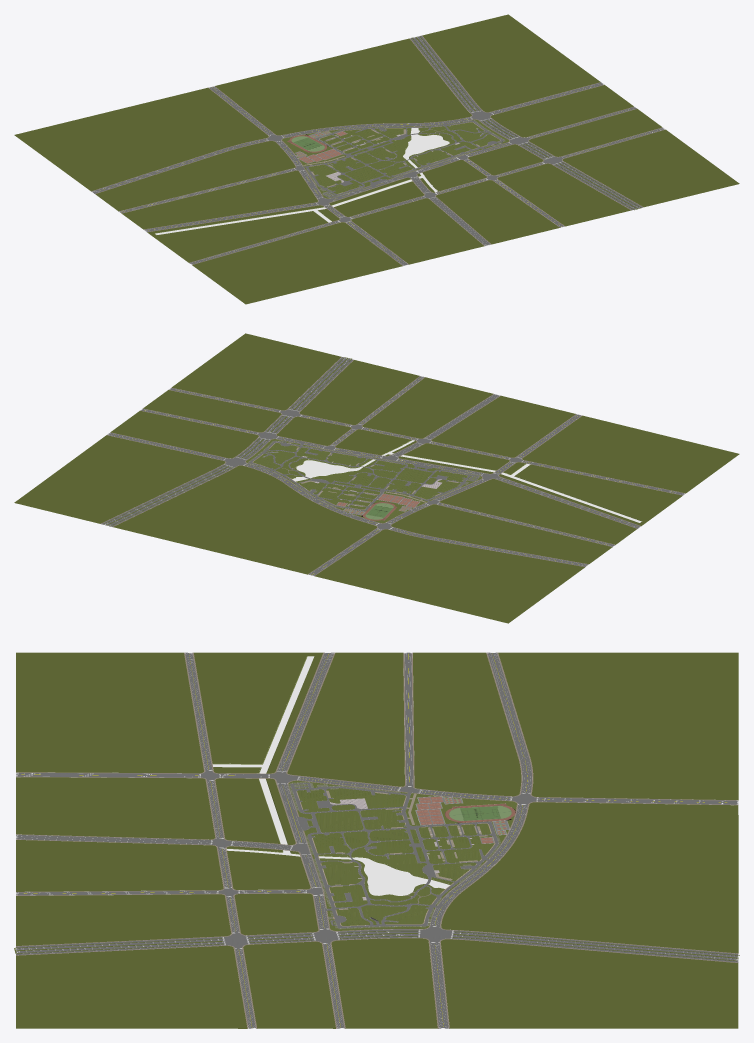
The model's file is land.glb.
3 views of the same model, one above another, from view 1: azimuth 30°, elevation 25°; view 2: azimuth 150°, elevation 25°; view 3: azimuth 270°, elevation 25° (orthographic). The views are drawn at different scales.
Parts seen in each view (by area): view 1: C-草地01.001, L-马路.002, C-草地01, R-人行道01, L-马路, water.001, L-绿篱01, T-停车位02; view 2: C-草地01.001, L-马路.002, C-草地01, R-人行道01, L-马路, water.001, L-绿篱01, T-停车位02; view 3: C-草地01.001, L-马路.002, C-草地01, R-人行道01, L-马路, water.001, L-绿篱01, R-人行道002, Rectangle029, T-停车位02, P-铺地10.001, P-铺地10.
Part boxes in pixels (x1,y1,x2,y2): C-草地01.001: (14, 14, 739, 304); L-马路.002: (92, 35, 664, 265); C-草地01: (282, 119, 509, 198); R-人行道01: (91, 36, 664, 265); L-马路: (303, 120, 504, 197); water.001: (155, 128, 449, 234); L-绿篱01: (412, 36, 640, 210); T-停车位02: (306, 120, 505, 198); C-草地01.001: (14, 333, 739, 623); L-马路.002: (101, 357, 685, 575); C-草地01: (246, 439, 482, 523); R-人行道01: (101, 357, 684, 575); L-马路: (248, 441, 478, 511); water.001: (292, 440, 641, 522); L-绿篱01: (103, 357, 351, 526); T-停车位02: (248, 440, 480, 508); C-草地01.001: (16, 652, 738, 1028); L-马路.002: (16, 652, 738, 1028); C-草地01: (288, 780, 516, 930); R-人行道01: (16, 652, 738, 1028); L-马路: (290, 783, 498, 928); water.001: (212, 656, 449, 895); L-绿篱01: (14, 930, 739, 961); R-人行道002: (16, 653, 738, 1028); Rectangle029: (445, 803, 515, 823); T-停车位02: (288, 782, 500, 929); P-铺地10.001: (213, 656, 450, 893); P-铺地10: (326, 790, 487, 909).
Size of the model in its own units: 2235 by 4.34 by 1820.
17 materials, 14 textured.
